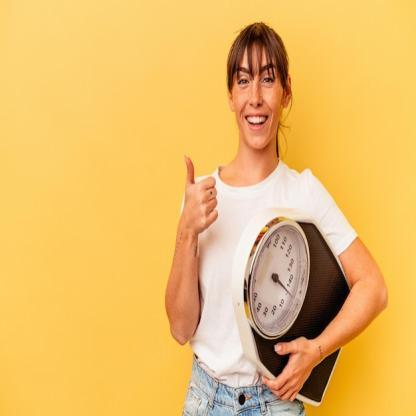thumb_up: (178, 153, 218, 232)
